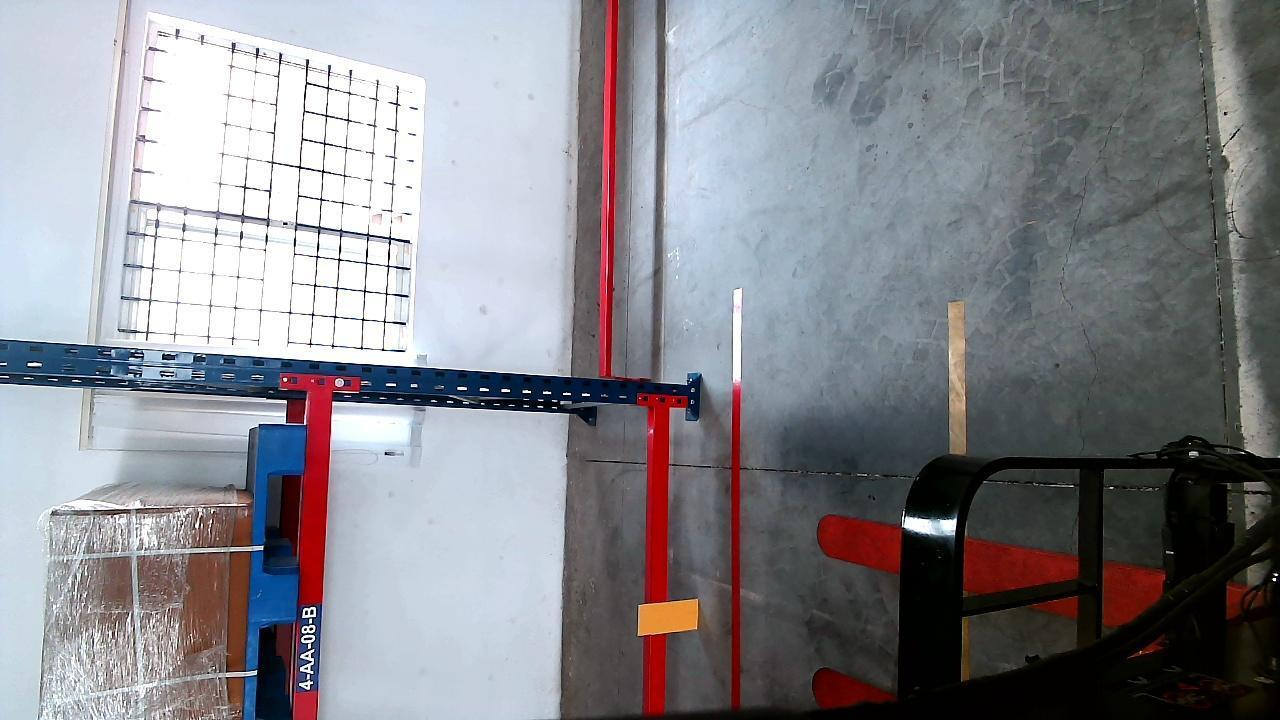h_rack: (293, 399, 332, 720), (645, 404, 674, 709)
orange_strip: (638, 600, 700, 634)
red_line: (726, 287, 748, 713)
small_pallet: (244, 425, 304, 720)
yellow_line: (947, 296, 967, 450)
